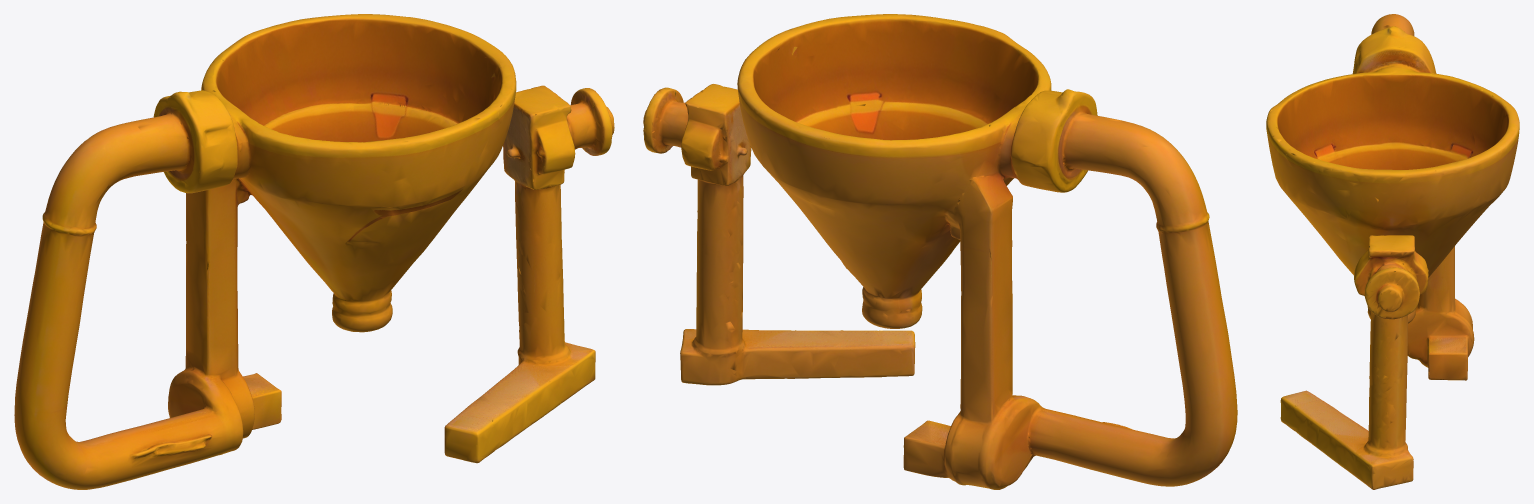
File: blend.glb
3 renders of one model, left to right at view 1: azimuth 30°, elevation 25°; view 2: azimuth 150°, elevation 25°; view 3: azimuth 270°, elevation 25°, orthographic. The views are drawn at different scales.
Bounding box in the file's own units: 2 × 1.26 × 0.9229.
1 material, 1 textured.
